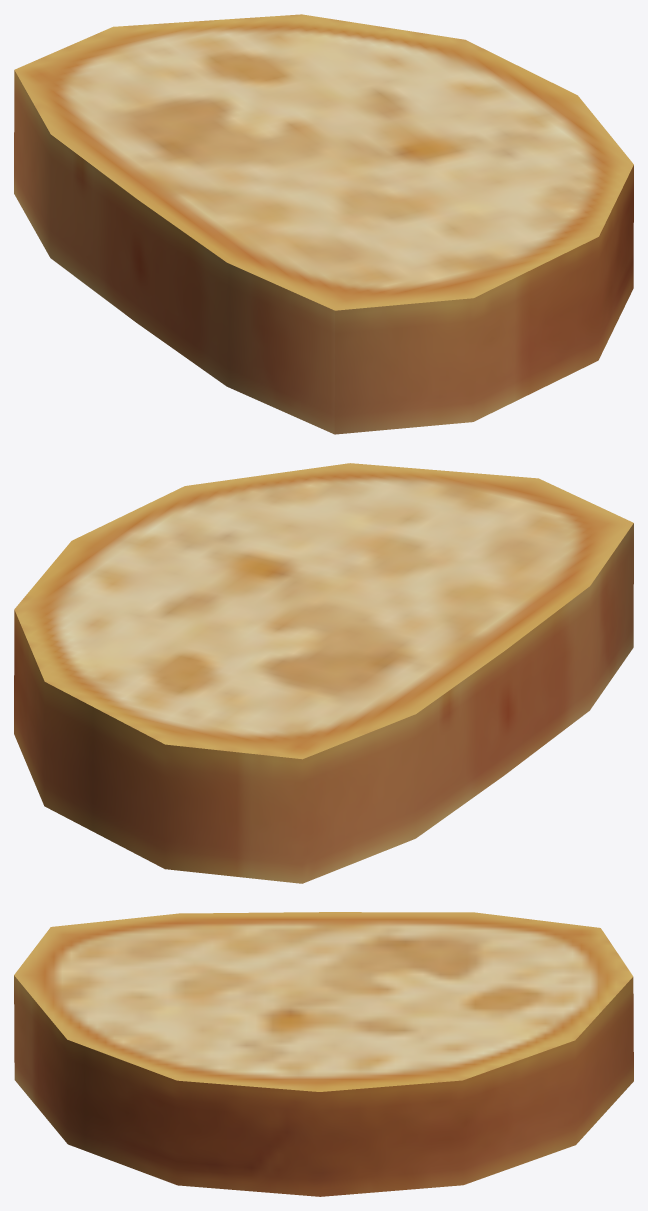
File: SE_Baguette_03.fbx
3 views of the same model, one above another, from view 1: azimuth 30°, elevation 25°; view 2: azimuth 150°, elevation 25°; view 3: azimuth 270°, elevation 25° (orthographic). The views are drawn at different scales.
Parts seen in each view (by area): view 1: SE_Baguette_03; view 2: SE_Baguette_03; view 3: SE_Baguette_03.
Part boxes in pixels (x1,y1,x2,y2): SE_Baguette_03: (14, 14, 633, 434); SE_Baguette_03: (14, 463, 633, 883); SE_Baguette_03: (14, 912, 633, 1196).
Size of the model in its own units: 0.6622 by 0.1859 by 0.9638.
